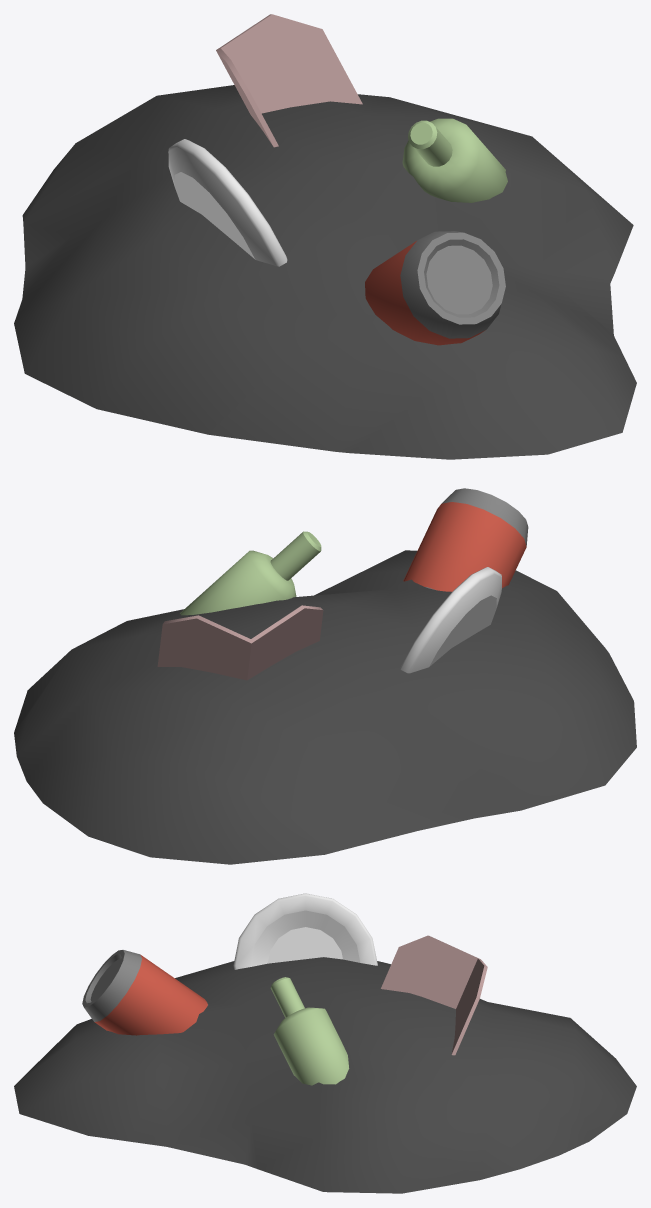
The model's file is OilTrashSpot_01.fbx.
3 views of the same model, one above another, from view 1: azimuth 30°, elevation 25°; view 2: azimuth 150°, elevation 25°; view 3: azimuth 270°, elevation 25° (orthographic). The views are drawn at different scales.
Visible parts, largest first — view 1: Curve; view 2: Curve; view 3: Curve.
Part boxes in pixels (x1,y1,x2,y2): Curve: (14,14,636,459); Curve: (14,488,636,864); Curve: (14,893,636,1193).
Bounding box in the file's own units: 0.7933 × 0.2415 × 0.9636.
